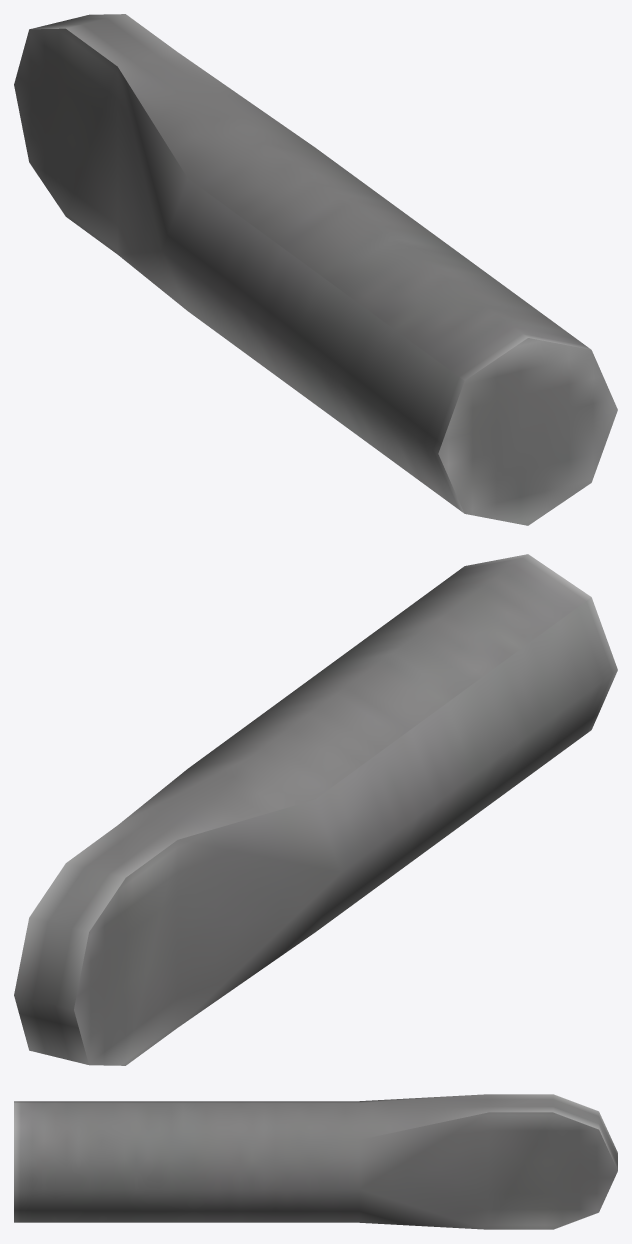
File: le5a_big_piston.obj
3 renders of one model, top to bottom at view 1: azimuth 30°, elevation 25°; view 2: azimuth 150°, elevation 25°; view 3: azimuth 270°, elevation 25°, orthographic. The views are drawn at different scales.
Parts seen in each view (by area): view 1: big_piston; view 2: big_piston; view 3: big_piston.
Part boxes in pixels (bbox=[...]): big_piston: bbox=[14, 14, 617, 525]; big_piston: bbox=[14, 554, 617, 1065]; big_piston: bbox=[14, 1094, 617, 1229].
Bounding box in the file's own units: 0.0375 × 0.0375 × 0.175.
Materials: 1 (1 with a texture image).
